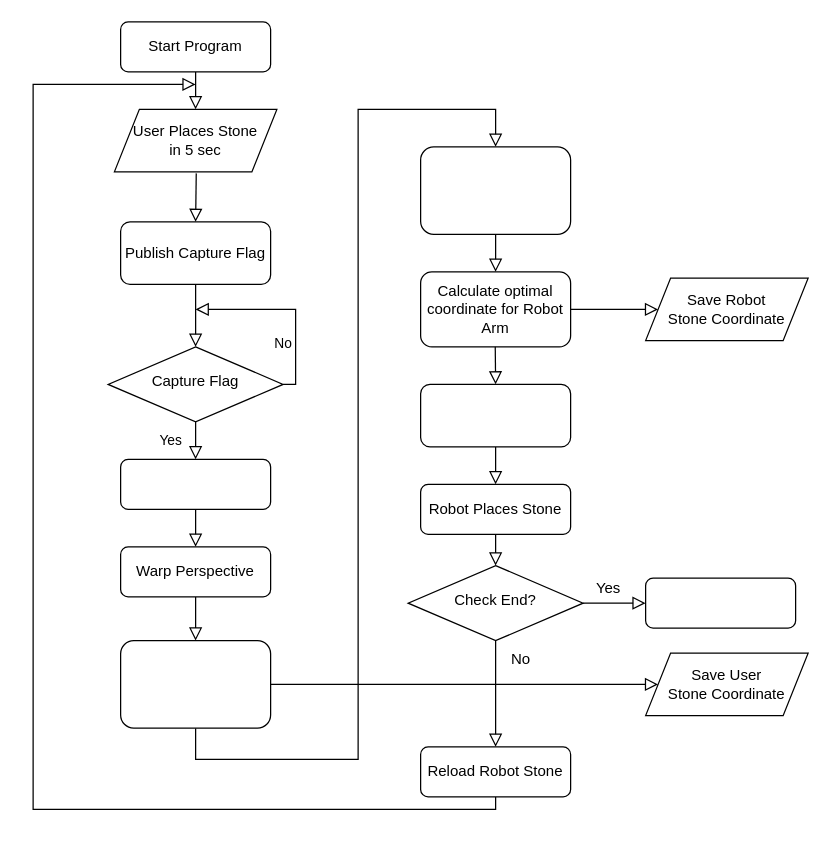
This 830x844 diagram has some shape labels left out. The shapes that lost their labels are listed below. From the top down, each one's centre as x and y in pixels, then its label:
At [495,190]: "Send Human Coordinate to the Gomoku/Checker Algorithm".
At [495,415]: "Publish&Subscribe Robot Arm Coordinate".
At [195,483]: "Capture Image".
At [720,602]: "Finish Program".
At [195,683]: "Extract Newly placed stone location using image processing".
